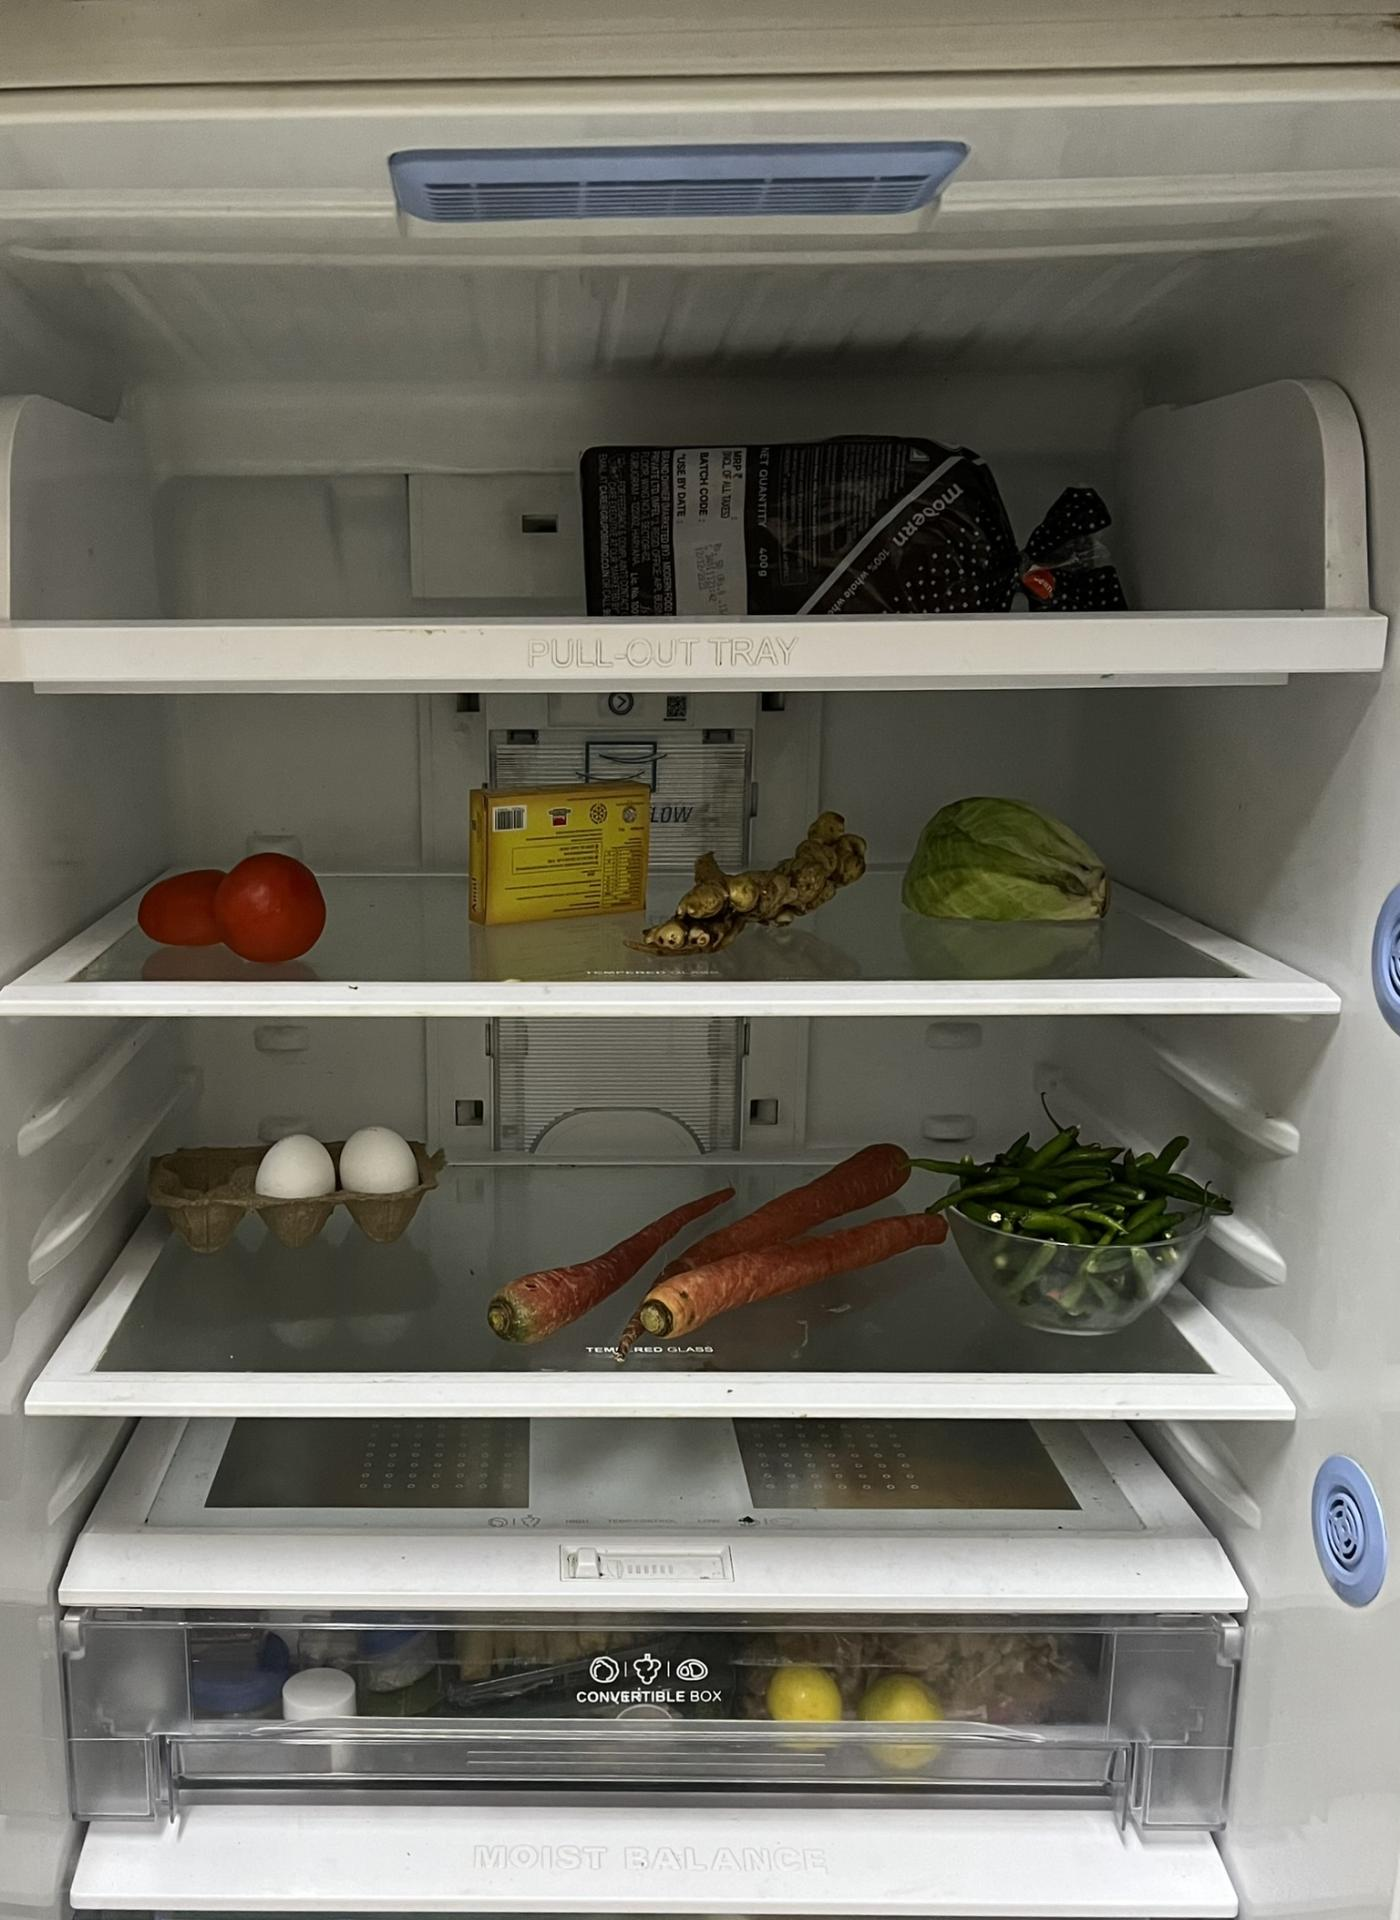bread: (565, 428, 1133, 616), (468, 783, 662, 932)
cabbage: (908, 795, 1124, 927)
carrots: (499, 1148, 966, 1357)
chillies: (957, 1131, 1220, 1328)
egg: (256, 1122, 435, 1242)
ginger: (638, 812, 871, 953)
tomato: (140, 848, 332, 961)
